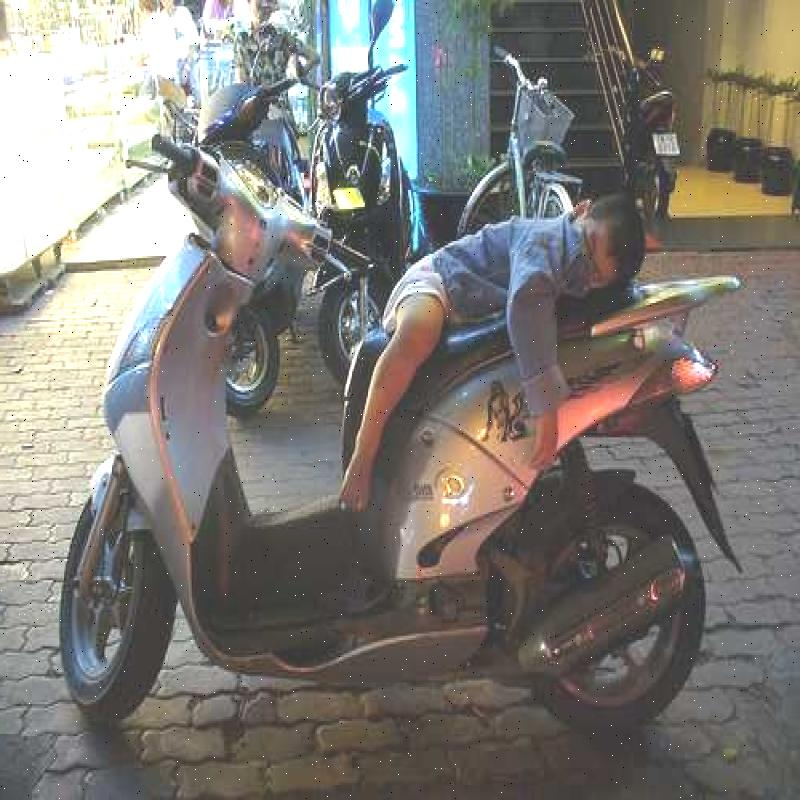bike: (46, 112, 744, 722)
